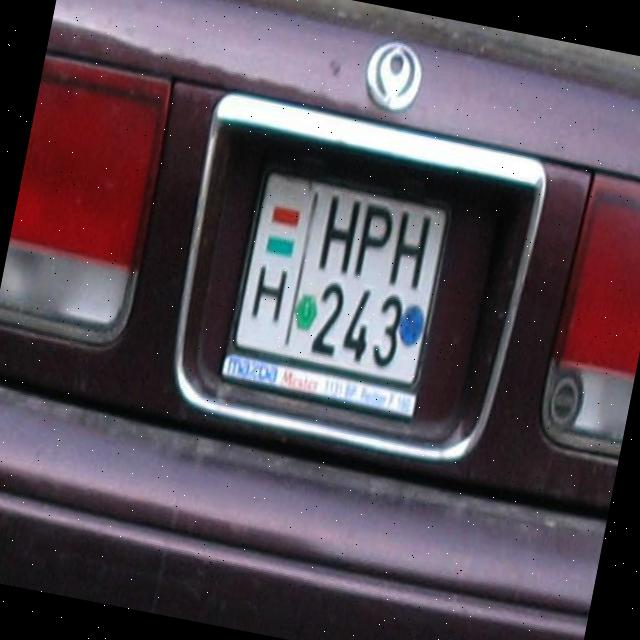licence: (216, 158, 459, 424)
